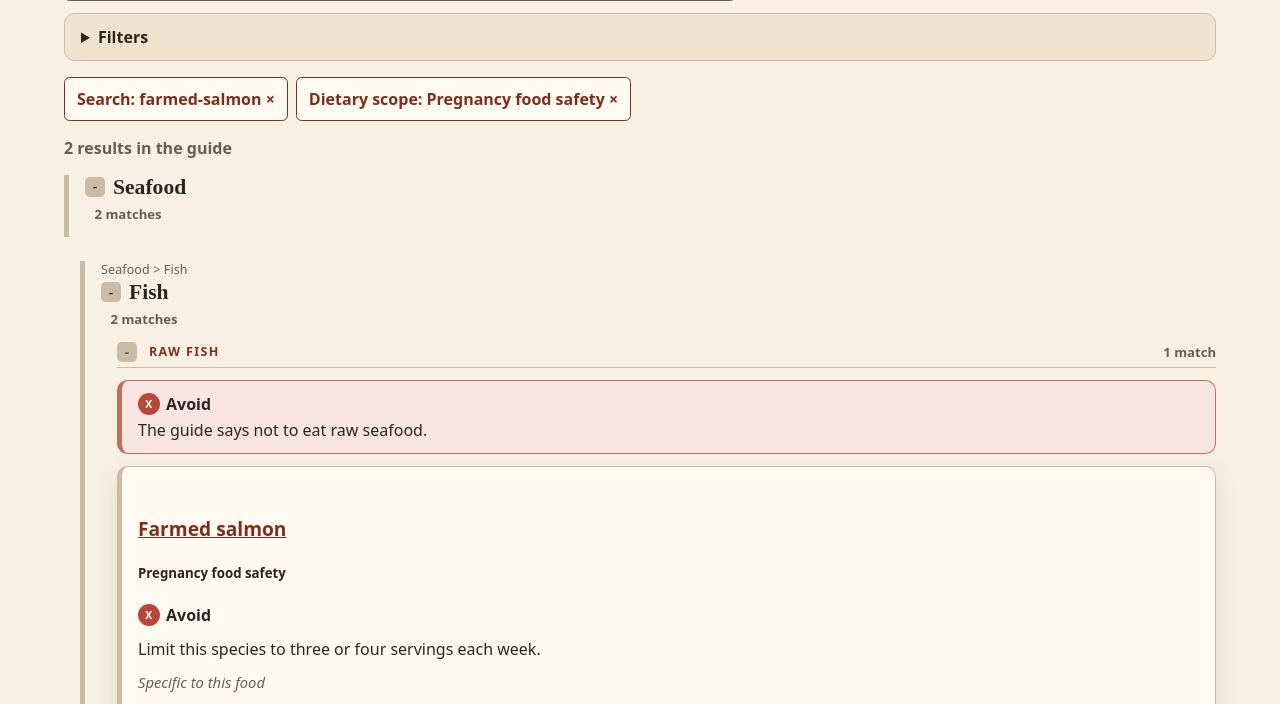
it: browsing a category with a preparation dimension › collapses a band for this search only, hiding its callout and foods without a chip
This screenshot has width=1280, height=704.
(page scrolled)
Check: the element showing "X Avoid The guide says not to eat raw seafood." is shown, box [117,380,1216,454]
What coordinates should you click on to do the following:
click the button named "Raw Fish,"
I would click on:
 (127, 352)
Its box is [117,342,137,362].
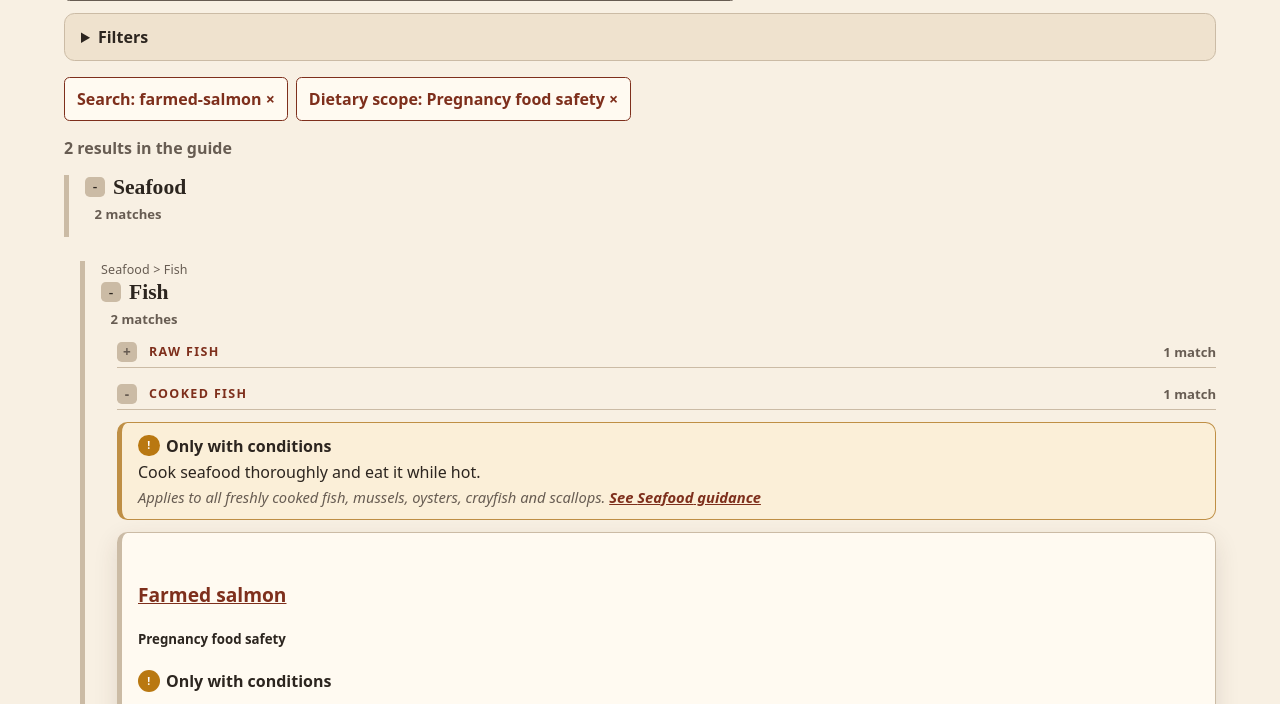
Check: the text "2 results in the guide" is shown, box [64,137,232,159]
Check: the button named "Raw Fish," is collapsed
Check: the text "X Avoid The guide says not to eat raw seafood." is gone
What coordinates should you click on to do the following:
click the button named "Raw Fish,"
I would click on:
 (127, 352)
Its box is [117,342,137,362].
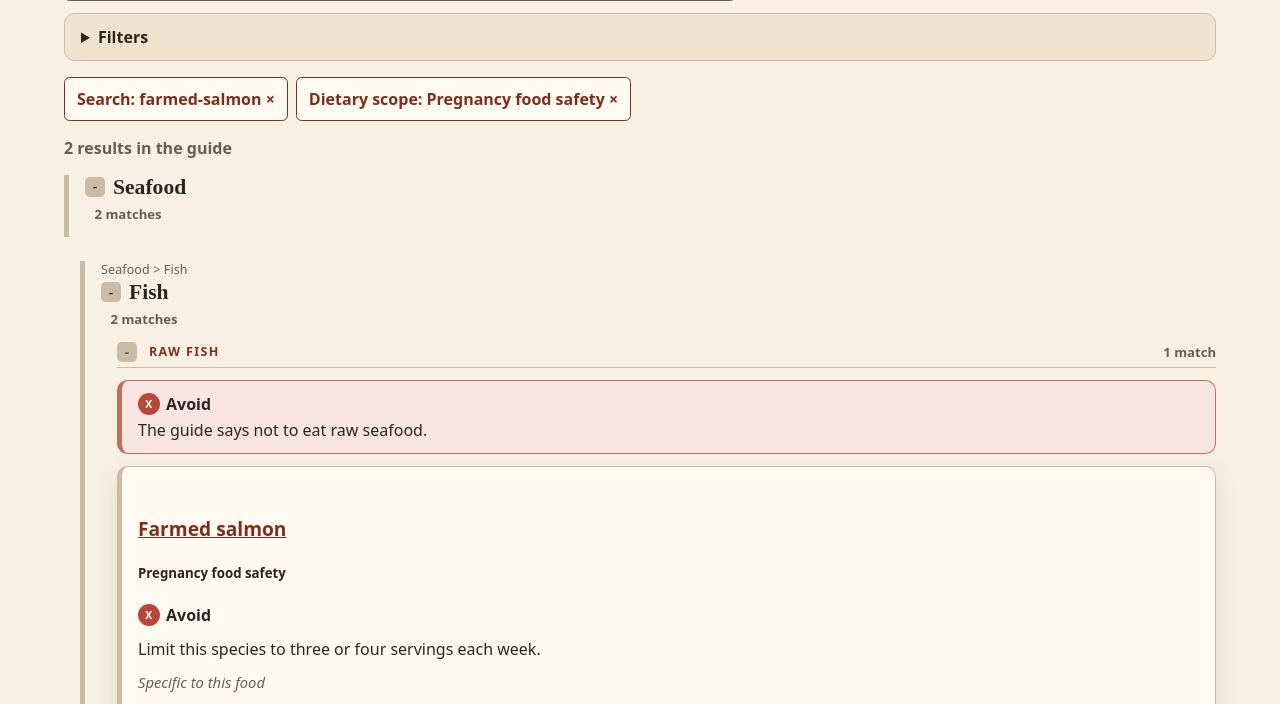
Check: the button named "Raw Fish," is expanded, box [117,342,137,362]
Check: the link "Farmed salmon" is shown, box [138,515,286,542]
